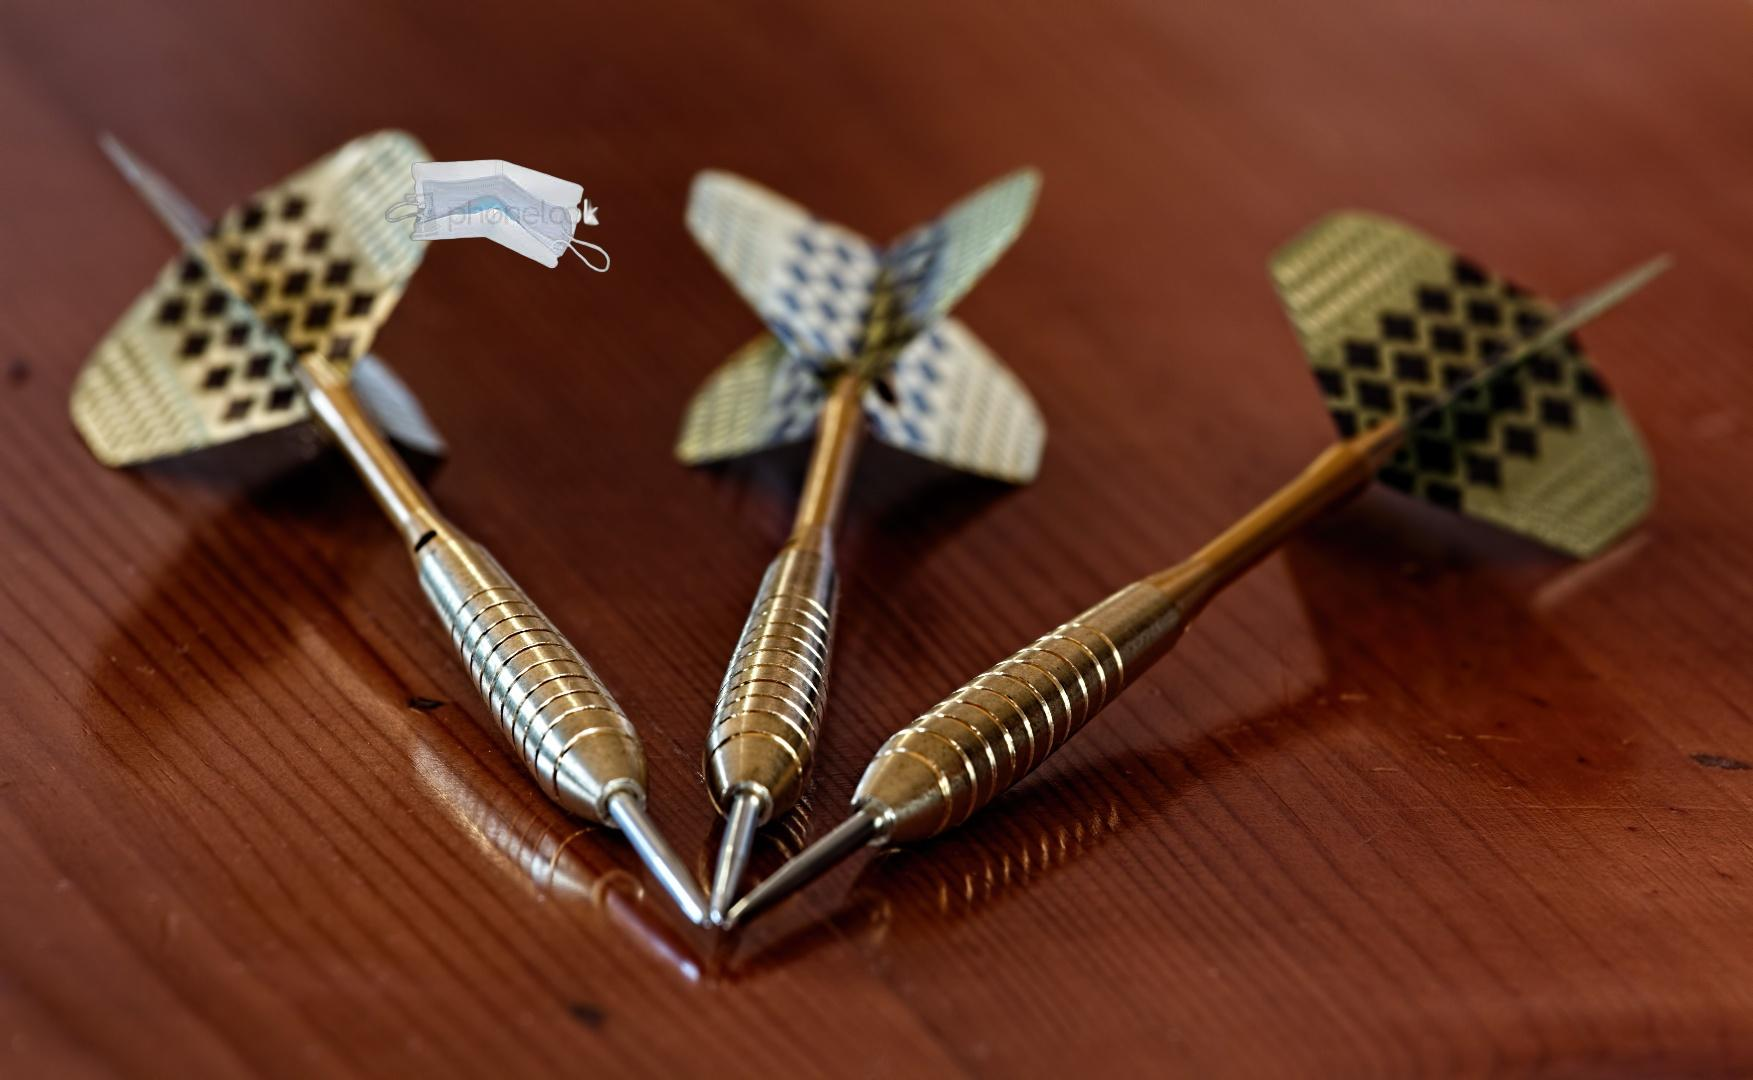trash: (384, 156, 610, 275)
